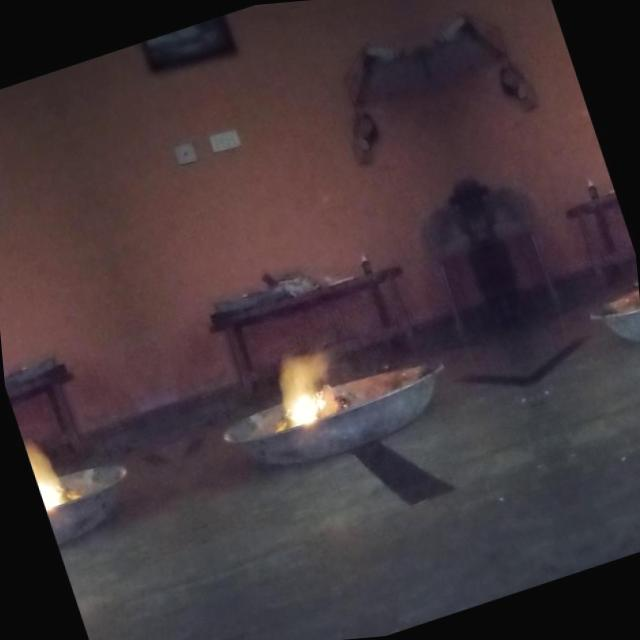fire: (229, 311, 393, 468), (16, 406, 106, 558)
